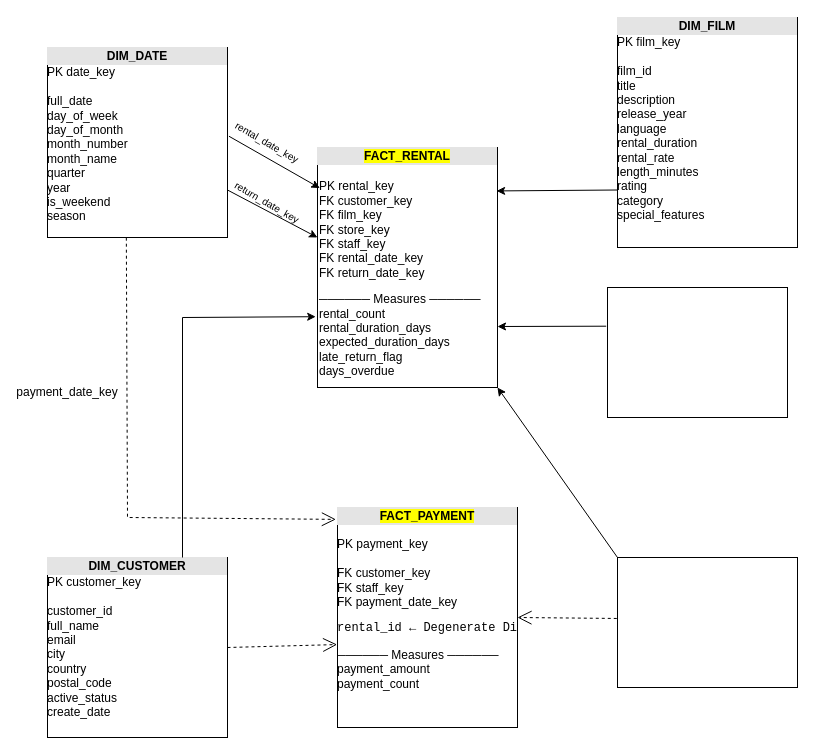
The diagram is 815 pixels wide and 755 high, and some of its shapes have lost their labels. Here are the shapes that lost their labels. From the top down, the centre of each, then its label:
At (x=697, y=352): "DIM_STORE PK store_key store_id store_address city country postal_code".
At (x=707, y=622): "DIM_STAFF PK staff_key staff_id full_name email store_id active_status".
